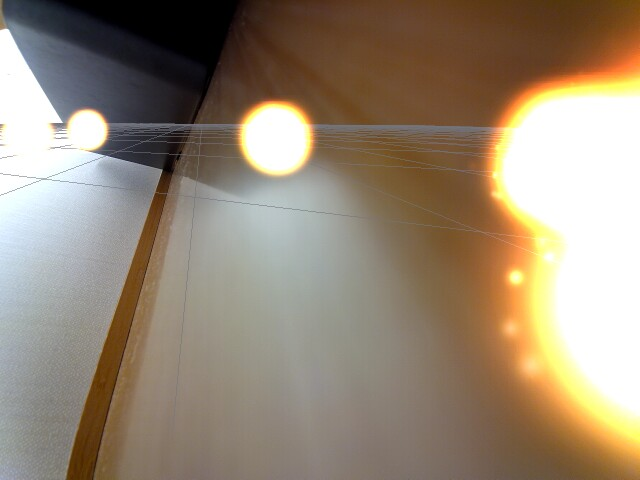firebig: (443, 50, 640, 450)
